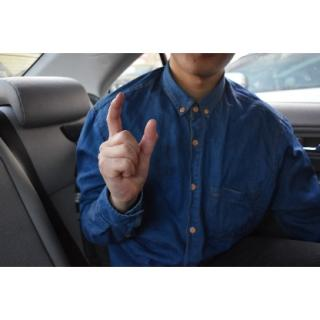NOON: (95, 90, 162, 207)
